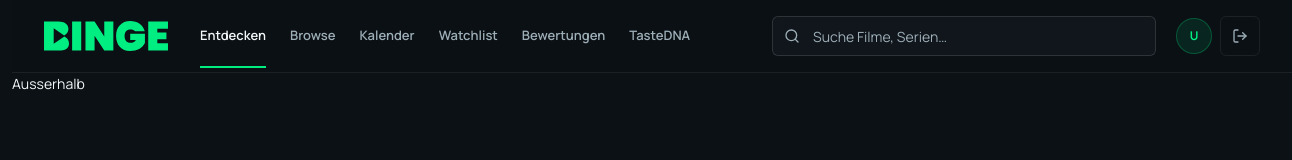
Test case: account and mobile navigation › displays a logout error rather than silently losing the current session
Step 1. Click the button named "Abmelden" → point(1240, 36), box [1220, 16, 1260, 56]
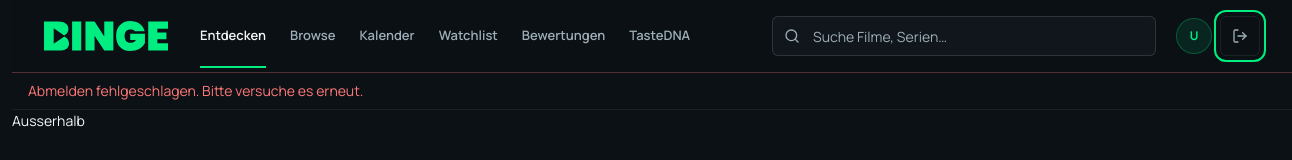
Expected: the message shows "Abmelden fehlgeschlagen", [28, 81, 363, 100]
